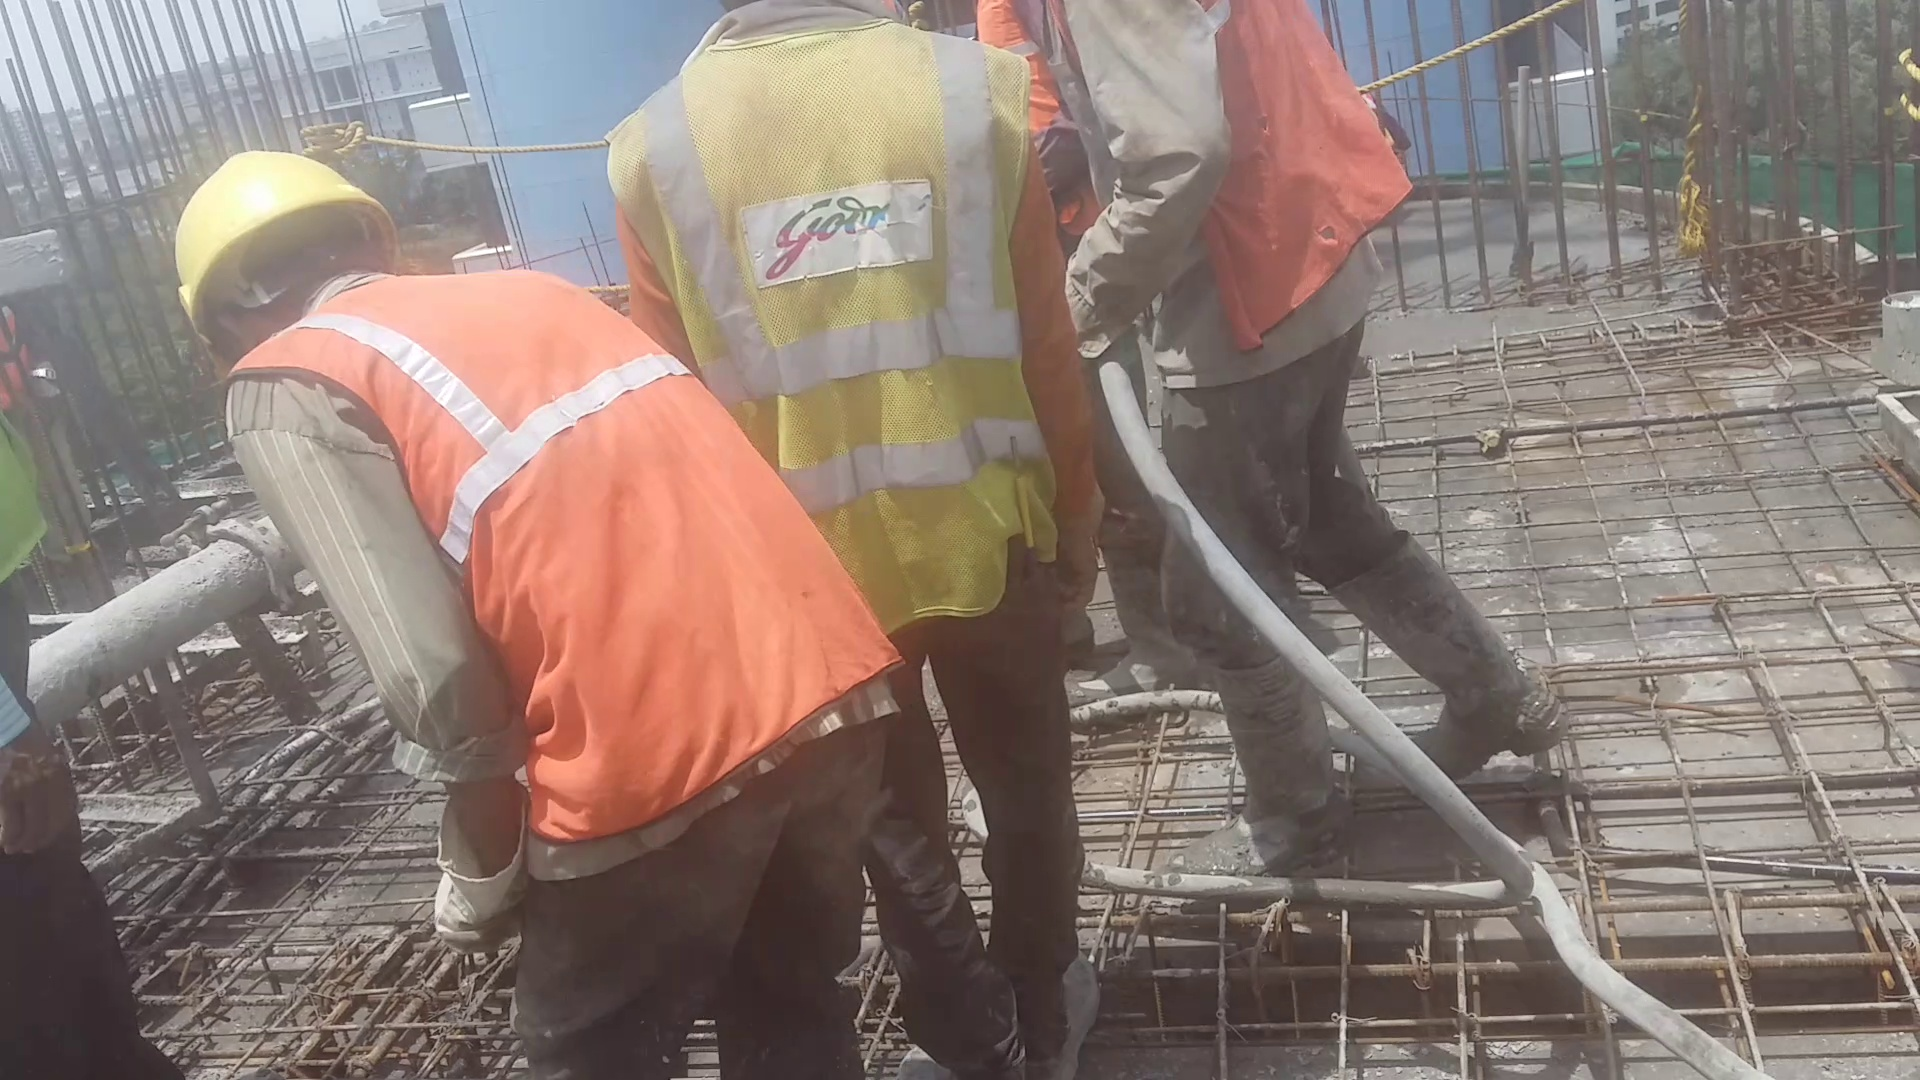SAFE: (165, 140, 907, 847)
